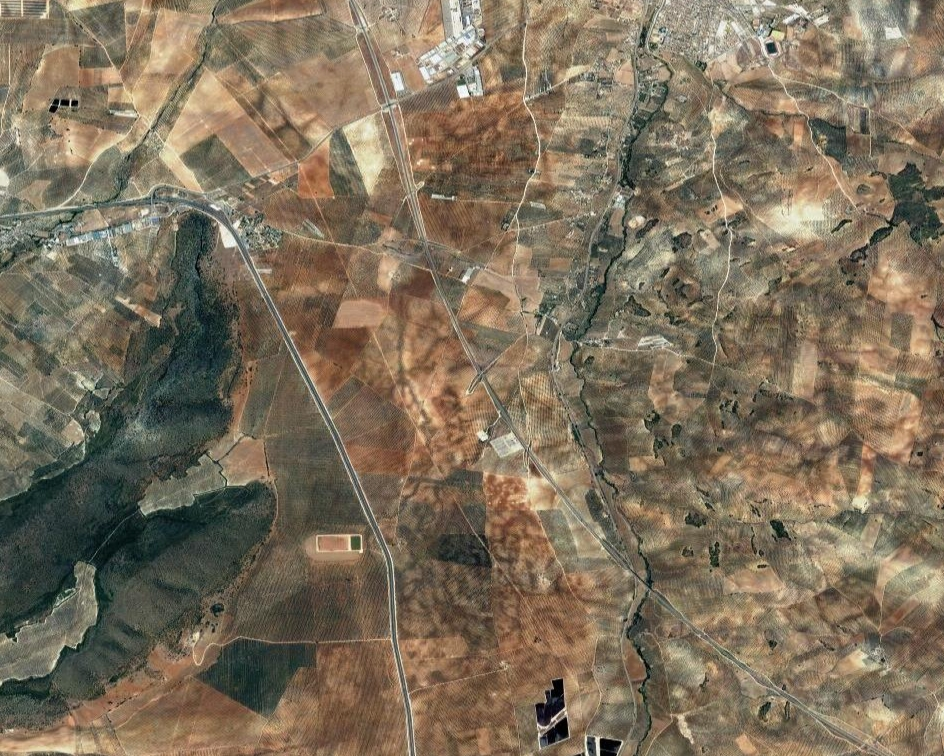motorway: (256, 272, 406, 610), (331, 554, 473, 756), (61, 174, 266, 274)
